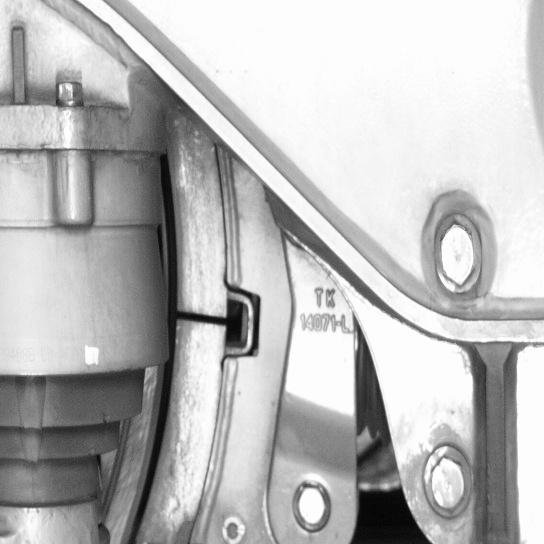KnifeSwitch: (121, 151, 252, 541)
